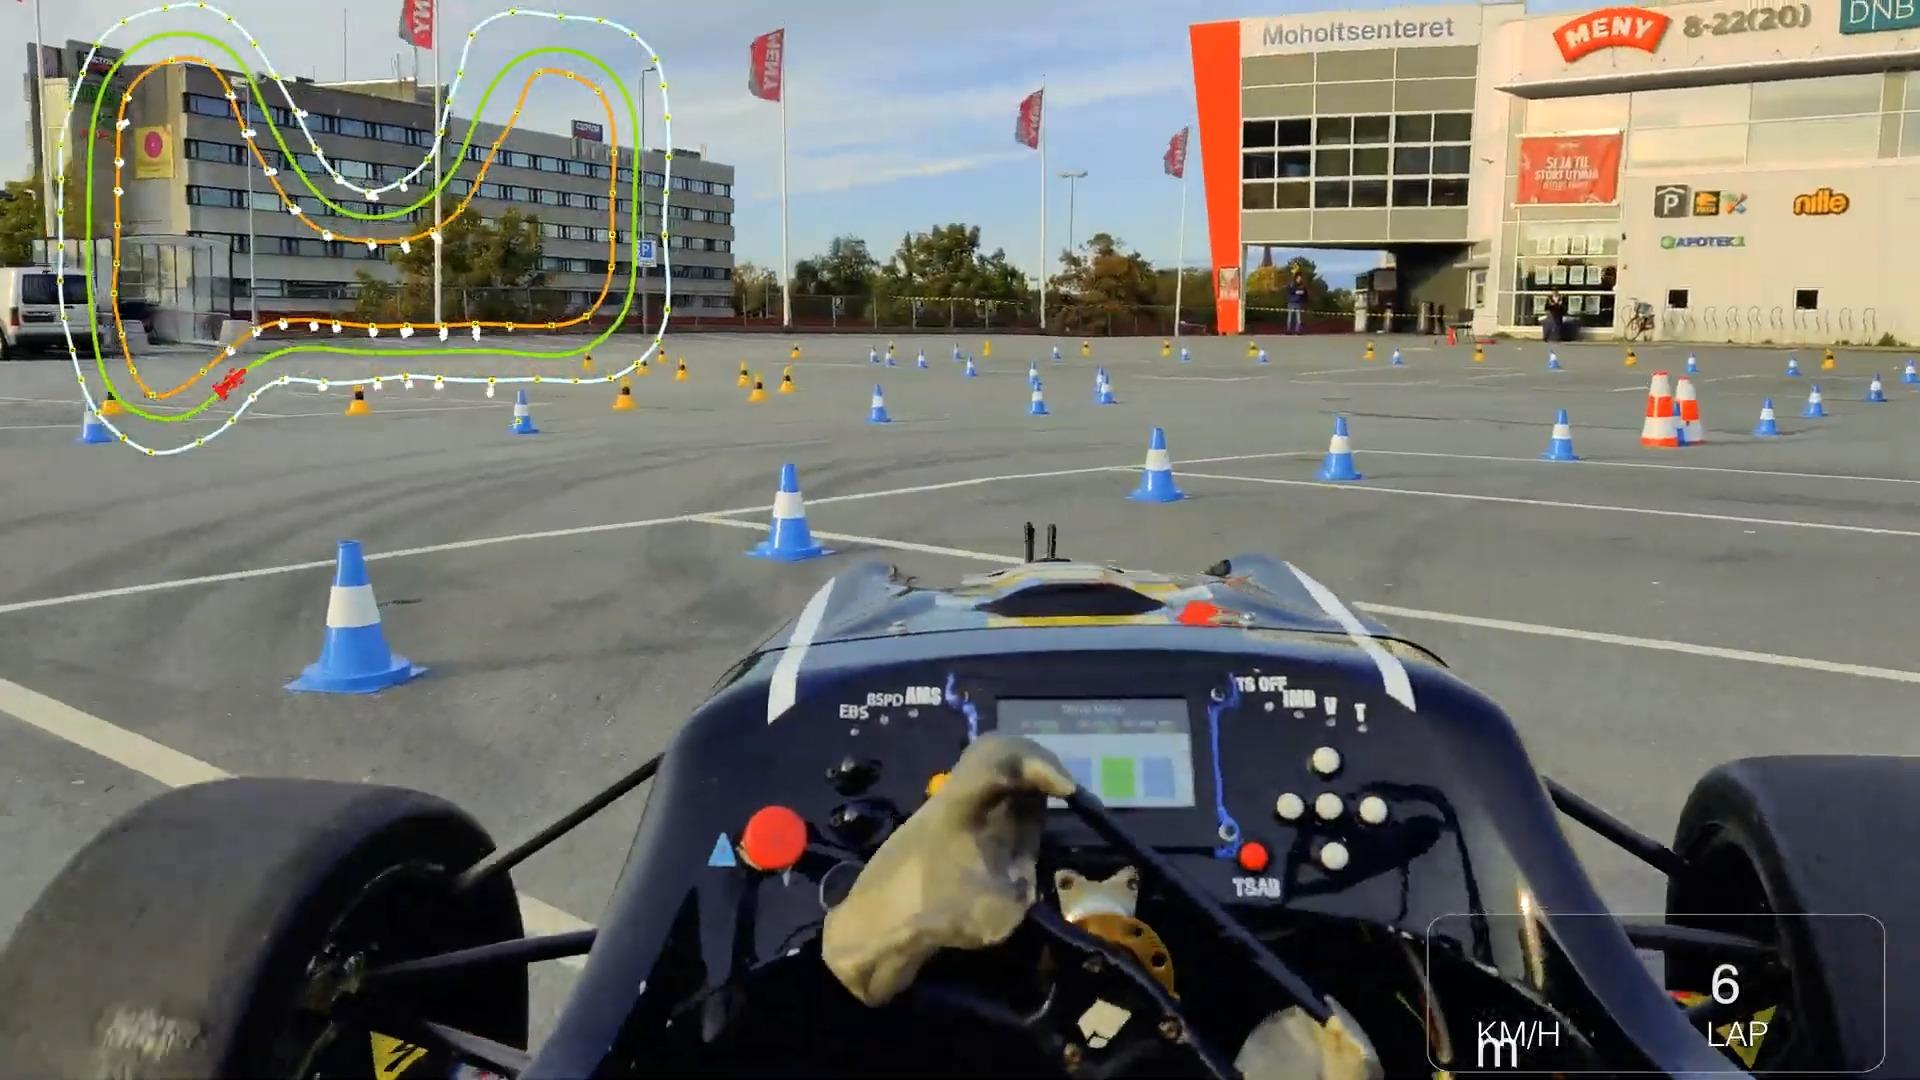blue_cone: (276, 538, 442, 699), (741, 460, 837, 564), (1127, 423, 1188, 508), (1308, 410, 1370, 484), (1538, 405, 1582, 463), (74, 398, 116, 448), (508, 389, 542, 438), (861, 380, 894, 425), (1797, 381, 1833, 419), (1750, 398, 1784, 436), (1667, 401, 1693, 448), (1021, 381, 1052, 417), (1861, 372, 1888, 406), (1093, 376, 1118, 405), (1898, 357, 1920, 389), (1782, 351, 1805, 377), (1026, 361, 1043, 392), (1091, 368, 1106, 396), (1684, 351, 1701, 376), (963, 356, 980, 378), (915, 348, 932, 371), (1547, 349, 1561, 371)
large_orange_cone: (1636, 369, 1681, 450), (1672, 373, 1710, 448)
yellow_cone: (340, 378, 377, 421), (609, 375, 641, 415), (773, 365, 798, 397), (102, 386, 127, 417), (745, 375, 767, 402), (1818, 344, 1840, 373), (670, 356, 691, 382), (735, 363, 753, 389), (582, 348, 597, 373), (634, 357, 653, 376), (657, 344, 670, 364)
